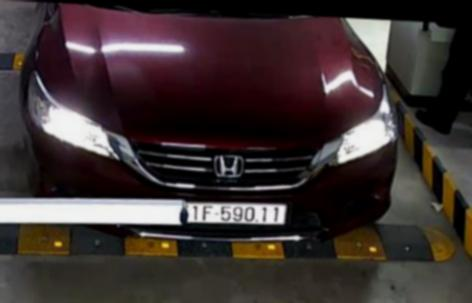License_Plate: (184, 194, 294, 231)
